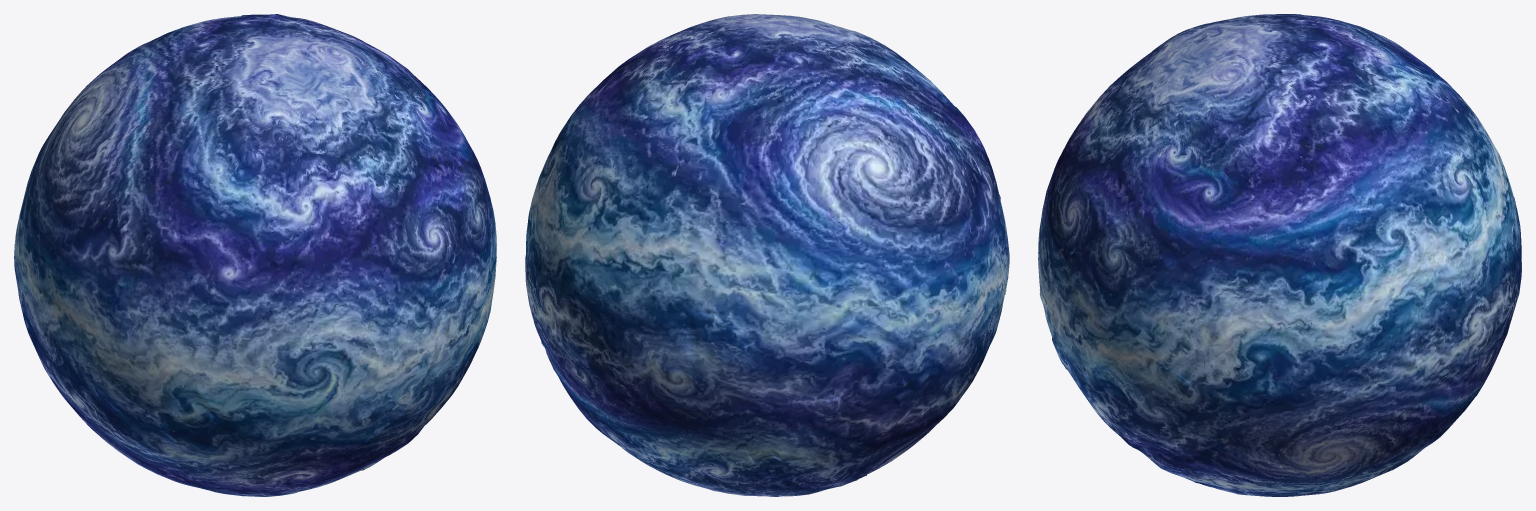
File: planet_11.glb
The picture shows the model from 3 angles, left to right: view 1: azimuth 30°, elevation 25°; view 2: azimuth 150°, elevation 25°; view 3: azimuth 270°, elevation 25°; orthographic projection.
Visible parts, largest first — view 1: Mesh_0.001; view 2: Mesh_0.001; view 3: Mesh_0.001.
Boxes of the visible parts, x1,y1,x2,y2 form: Mesh_0.001: (14, 14, 496, 496); Mesh_0.001: (525, 14, 1009, 496); Mesh_0.001: (1038, 14, 1521, 496).
Size of the model in its own units: 1.9 by 1.9 by 1.9.
1 material, 1 textured.
